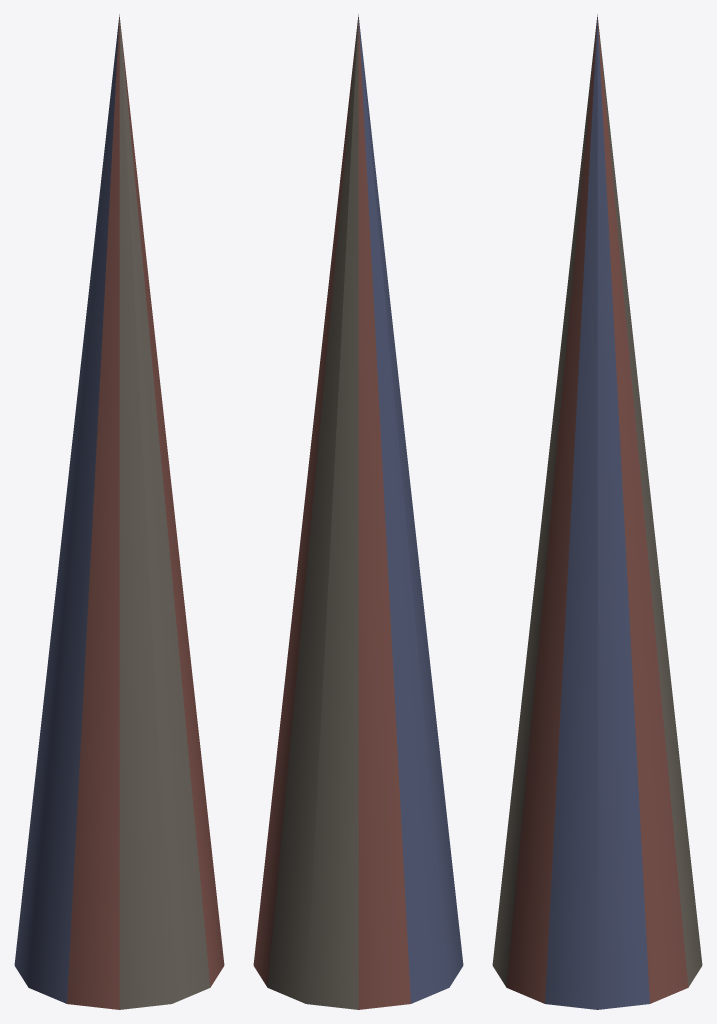
File: Spike.fbx
The picture shows the model from 3 angles, left to right: view 1: azimuth 30°, elevation 25°; view 2: azimuth 150°, elevation 25°; view 3: azimuth 270°, elevation 25°; orthographic projection.
Parts seen in each view (by area): view 1: Mesh; view 2: Mesh; view 3: Mesh.
Part boxes in pixels (box(x1,y1,x2,y2)): Mesh: box(14, 14, 224, 1009); Mesh: box(253, 14, 463, 1009); Mesh: box(492, 14, 702, 1009).
Size of the model in its own units: 20 by 100 by 20.
